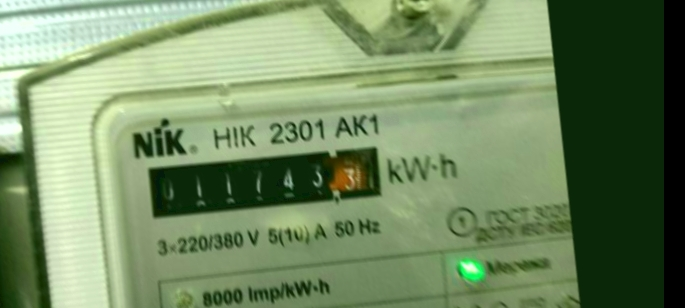0: (160, 174, 177, 204)
1: (221, 168, 236, 197), (192, 171, 205, 199)
3: (309, 161, 326, 189), (341, 167, 358, 193)
4: (280, 164, 296, 193)
7: (249, 164, 267, 194)
screen: (136, 132, 396, 233)
